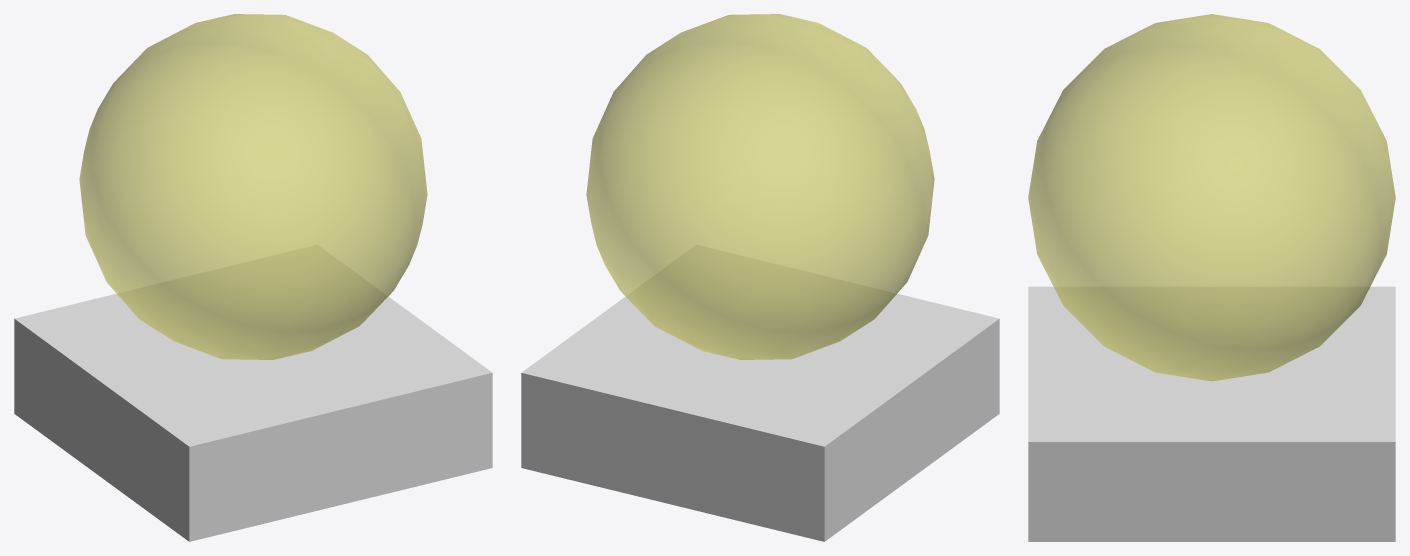
Rendered from light.glb.
The picture shows the model from 3 angles, left to right: view 1: azimuth 30°, elevation 25°; view 2: azimuth 150°, elevation 25°; view 3: azimuth 270°, elevation 25°; orthographic projection. The views are drawn at different scales.
Parts seen in each view (by area): view 1: Cube, Icosphere; view 2: Cube, Icosphere; view 3: Icosphere, Cube.
Part boxes in pixels (x1,y1,x2,y2): Cube: (14, 245, 492, 541); Icosphere: (79, 14, 427, 359); Cube: (521, 245, 999, 541); Icosphere: (586, 14, 934, 359); Icosphere: (1028, 14, 1395, 381); Cube: (1028, 286, 1395, 541).
Size of the model in its own units: 1 by 1.3 by 1.
